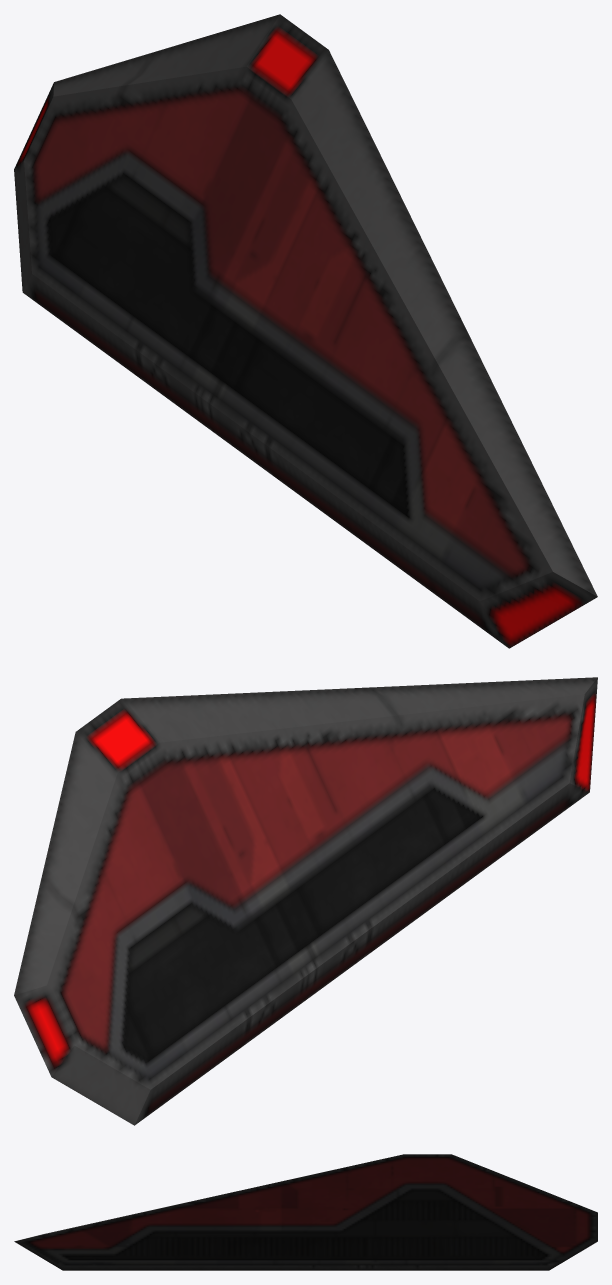
Rendered from BFP_SmallWingNum1_Left.FBX.
3 views of the same model, one above another, from view 1: azimuth 30°, elevation 25°; view 2: azimuth 150°, elevation 25°; view 3: azimuth 270°, elevation 25° (orthographic). The views are drawn at different scales.
Visible parts, largest first — view 1: BFP_SmallWingNum1_Left; view 2: BFP_SmallWingNum1_Left; view 3: BFP_SmallWingNum1_Left.
Boxes of the visible parts, box(x1,y1,x2,y2) form: BFP_SmallWingNum1_Left: box(14, 14, 597, 648); BFP_SmallWingNum1_Left: box(14, 677, 597, 1125); BFP_SmallWingNum1_Left: box(14, 1154, 597, 1270).
Bounding box in the file's own units: 41.98 × 75.84 × 259.
1 material, 1 textured.
